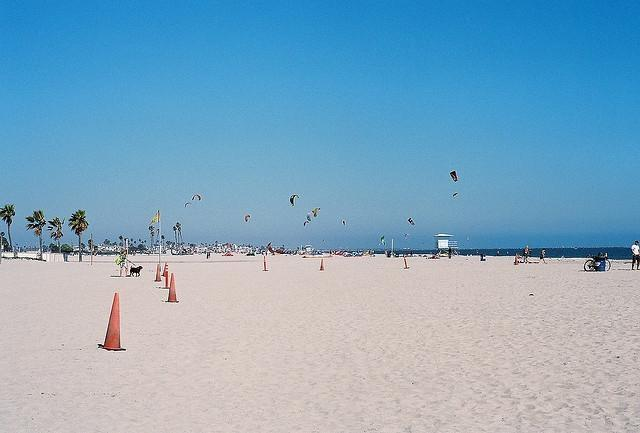bicycle: (584, 259, 611, 272)
